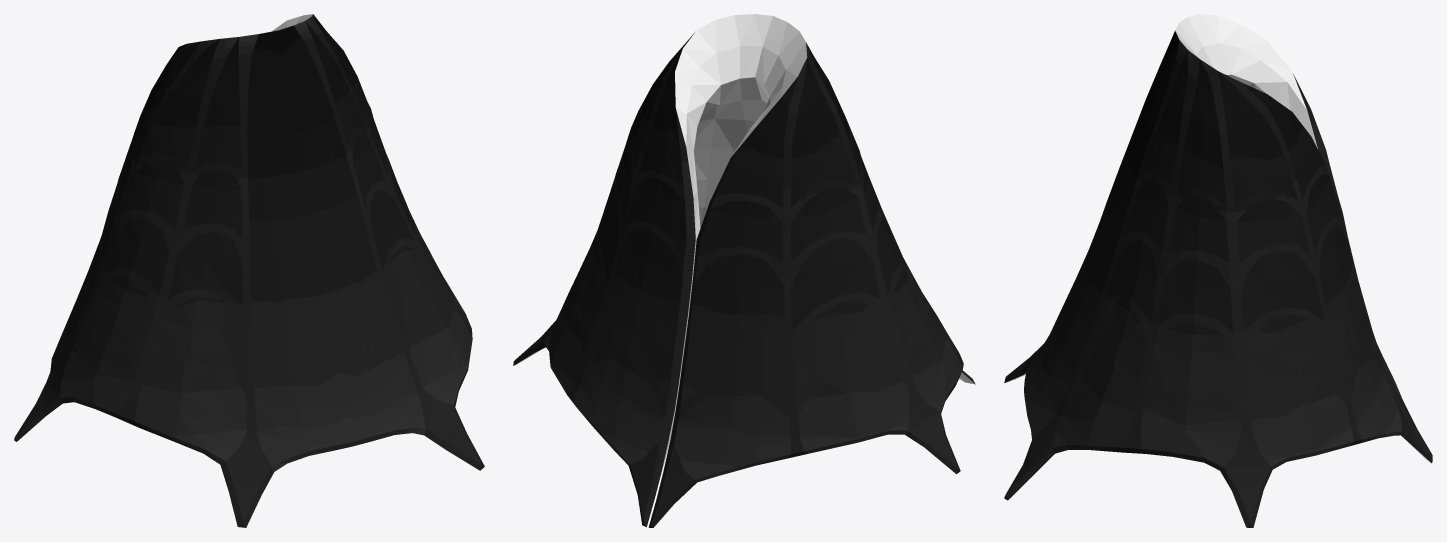
The model's file is CharSkyKid_Wing_SpiderWeb_01.glb.
3 renders of one model, left to right at view 1: azimuth 30°, elevation 25°; view 2: azimuth 150°, elevation 25°; view 3: azimuth 270°, elevation 25°, orthographic. The views are drawn at different scales.
Visible parts, largest first — view 1: CharSkyKid_Wing_SpiderWeb_01; view 2: CharSkyKid_Wing_SpiderWeb_01; view 3: CharSkyKid_Wing_SpiderWeb_01.
Boxes of the visible parts, x1=… form: CharSkyKid_Wing_SpiderWeb_01: x1=14, y1=14, x2=484, y2=527; CharSkyKid_Wing_SpiderWeb_01: x1=513, y1=14, x2=975, y2=527; CharSkyKid_Wing_SpiderWeb_01: x1=1004, y1=14, x2=1432, y2=527.
Bounding box in the file's own units: 8.06 × 7.26 × 6.54.
Materials: 1 (1 with a texture image).
